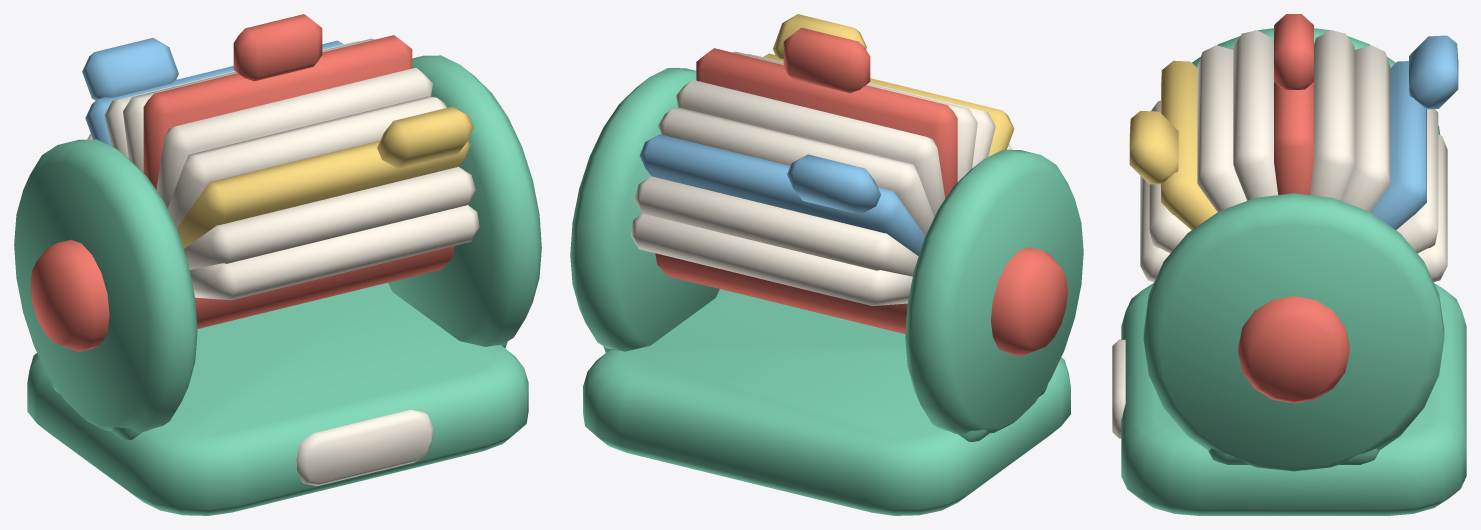
The model's file is ShopLedger.fbx.
3 renders of one model, left to right at view 1: azimuth 30°, elevation 25°; view 2: azimuth 150°, elevation 25°; view 3: azimuth 270°, elevation 25°, orthographic. The views are drawn at different scales.
Parts seen in each view (by area): view 1: ShopLedger; view 2: ShopLedger; view 3: ShopLedger.
Part boxes in pixels (x1=…): ShopLedger: x1=14, y1=14, x2=541, y2=515; ShopLedger: x1=570, y1=14, x2=1083, y2=515; ShopLedger: x1=1112, y1=14, x2=1466, y2=515.
Size of the model in its own units: 0.478 by 0.395 by 0.318.
